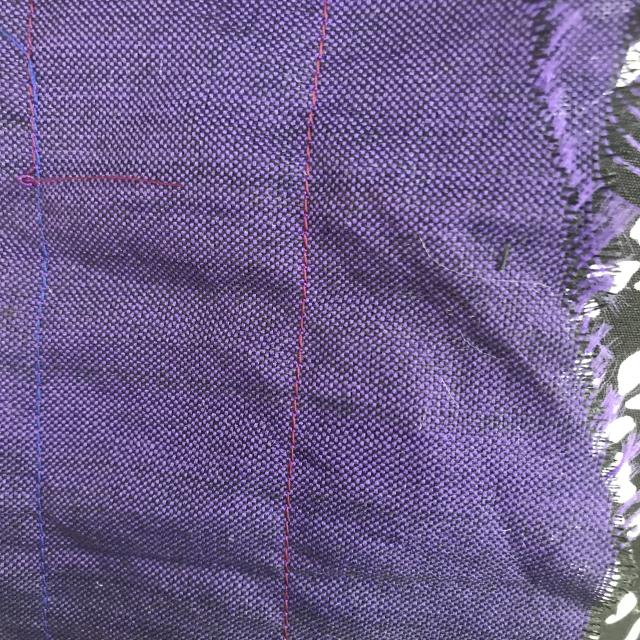good: (22, 340, 68, 570), (289, 133, 323, 353), (276, 372, 309, 598), (306, 24, 330, 107)
